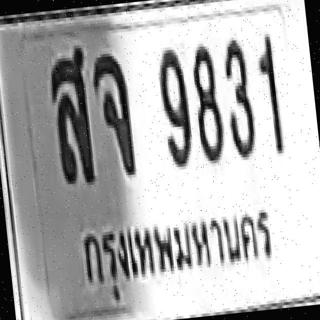A08: (88, 49, 136, 178)
A40: (46, 46, 96, 184)
N01: (253, 33, 284, 155)
N03: (219, 36, 258, 158)
N08: (189, 42, 225, 162)
N09: (155, 46, 194, 168)
P04: (70, 198, 278, 291)
